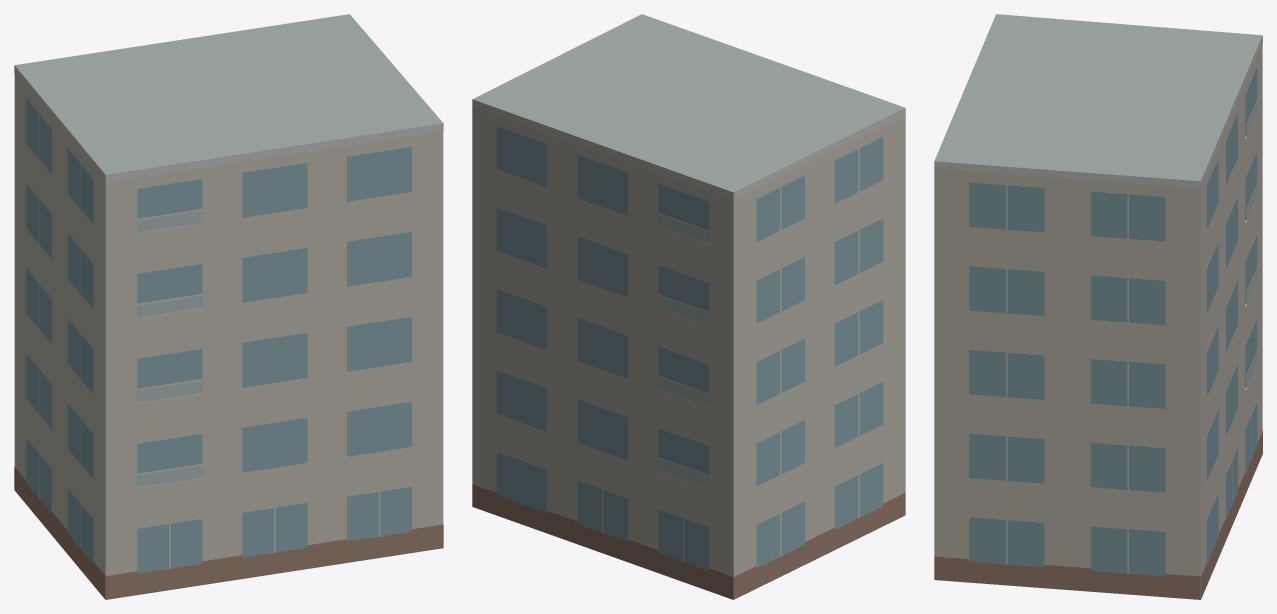
The model's file is survey-upis-32702606.glb.
3 renders of one model, left to right at view 1: azimuth 30°, elevation 25°; view 2: azimuth 150°, elevation 25°; view 3: azimuth 270°, elevation 25°, orthographic. The views are drawn at different scales.
Parts seen in each view (by area): view 1: survey-upis-32702606.tmp; view 2: survey-upis-32702606.tmp; view 3: survey-upis-32702606.tmp.
Boxes of the visible parts, bbox=[...] form: survey-upis-32702606.tmp: bbox=[14, 14, 443, 599]; survey-upis-32702606.tmp: bbox=[472, 14, 905, 599]; survey-upis-32702606.tmp: bbox=[934, 14, 1262, 599].
Bounding box in the file's own units: 11.32 × 13.2 × 9.4.
